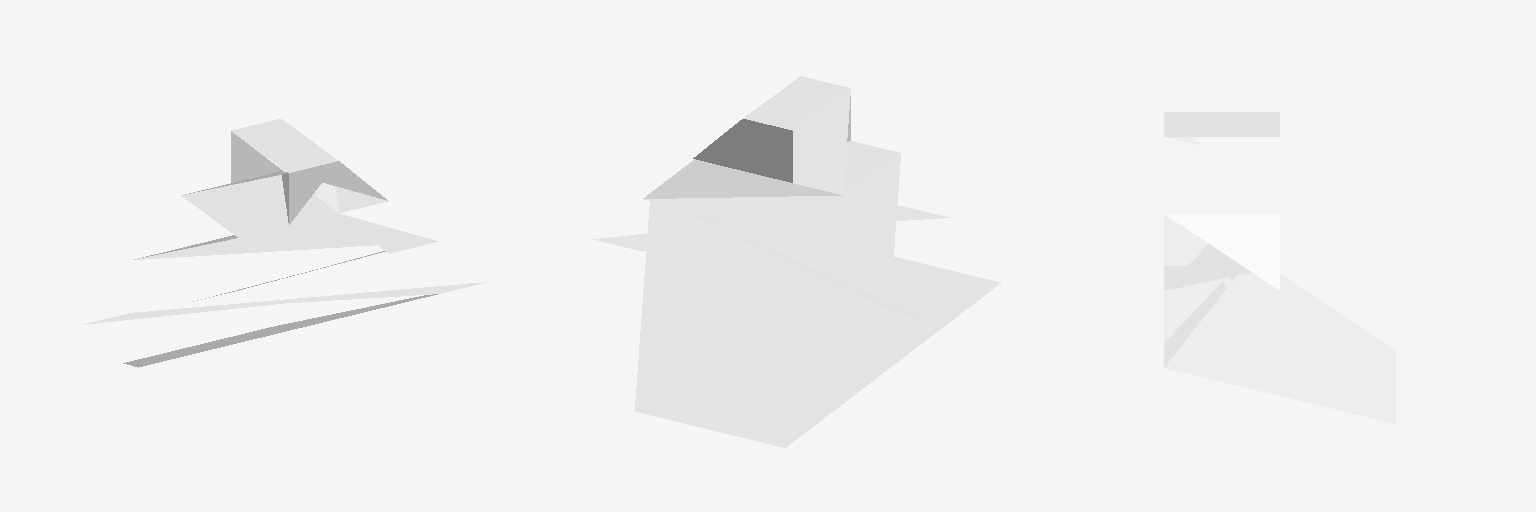
File: light_strobe.obj
3 views of the same model, side by side, from view 1: azimuth 30°, elevation 25°; view 2: azimuth 150°, elevation 25°; view 3: azimuth 270°, elevation 25° (orthographic).
Bounding box in the file's own units: 7 × 5 × 4.